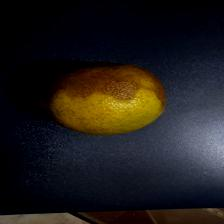Orange Rotten: (33, 37, 170, 148)
